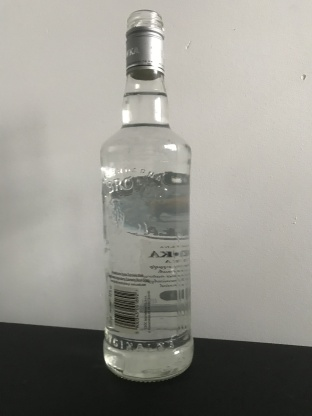nakretka: (123, 8, 166, 80)
